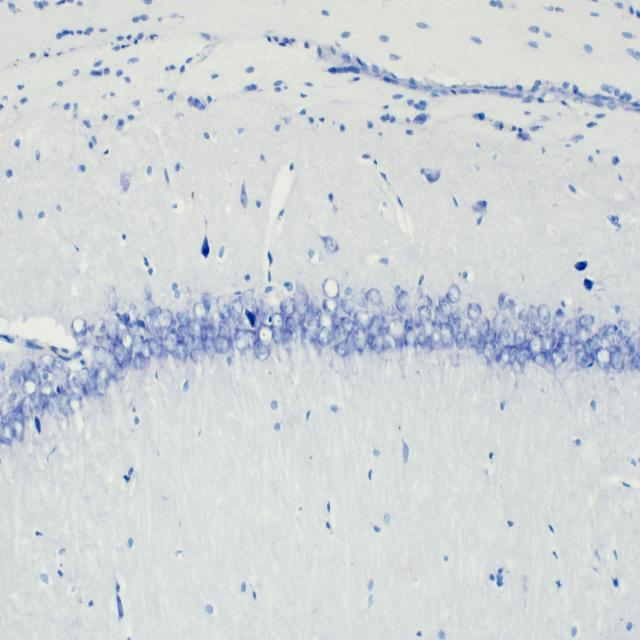neuron: (145, 314, 163, 339), (440, 322, 455, 349), (257, 322, 273, 347), (322, 277, 340, 299), (388, 318, 405, 341), (86, 378, 101, 404), (464, 325, 480, 349), (353, 328, 368, 353), (354, 310, 371, 332), (617, 335, 634, 357), (29, 395, 45, 418), (66, 391, 82, 414), (366, 321, 382, 344), (48, 391, 61, 419), (414, 322, 428, 348), (596, 346, 611, 370), (234, 329, 250, 351), (253, 339, 269, 361), (218, 319, 233, 342), (71, 316, 88, 336), (494, 312, 511, 332), (37, 380, 53, 401), (165, 330, 179, 354), (190, 342, 206, 363), (403, 326, 418, 348), (437, 295, 452, 317), (364, 288, 382, 306), (12, 419, 26, 442), (261, 303, 275, 326), (611, 347, 625, 370), (318, 312, 334, 332), (322, 297, 338, 317), (75, 367, 90, 388), (93, 345, 108, 366), (148, 338, 163, 359), (193, 302, 208, 323), (447, 312, 462, 333), (105, 349, 117, 375), (203, 334, 216, 358), (20, 396, 34, 418), (20, 358, 34, 380), (59, 389, 70, 417), (97, 368, 108, 396), (112, 343, 126, 365), (120, 330, 134, 352), (307, 319, 321, 341), (238, 317, 256, 334), (466, 302, 482, 321), (22, 376, 37, 396), (188, 318, 203, 338), (446, 283, 461, 303), (537, 304, 550, 327), (9, 371, 23, 392), (180, 332, 196, 350), (214, 336, 230, 354), (281, 328, 293, 352), (280, 298, 296, 316), (530, 312, 542, 336), (1, 422, 14, 444), (175, 340, 188, 362), (394, 292, 407, 314), (513, 327, 526, 349), (417, 305, 432, 324), (528, 335, 543, 354), (67, 370, 81, 390), (496, 348, 510, 368), (29, 367, 42, 388), (39, 354, 56, 370), (334, 340, 350, 357), (216, 296, 231, 314), (317, 327, 332, 345), (109, 362, 123, 381), (126, 304, 140, 323), (590, 333, 604, 352), (603, 324, 617, 343), (231, 298, 243, 320), (334, 322, 346, 344), (552, 348, 564, 370), (552, 310, 564, 332), (433, 306, 446, 326), (482, 341, 495, 361), (556, 341, 569, 361), (565, 317, 578, 337), (383, 334, 398, 351), (497, 330, 512, 347), (140, 339, 152, 360), (176, 308, 190, 326), (271, 312, 285, 330), (307, 247, 321, 265), (370, 335, 384, 353), (404, 306, 418, 324), (108, 286, 118, 311), (12, 404, 25, 423), (244, 330, 257, 349), (429, 330, 442, 349), (0, 400, 12, 420), (300, 328, 312, 348), (516, 346, 528, 366), (324, 236, 338, 253), (342, 298, 356, 315), (578, 314, 595, 328), (617, 316, 631, 333), (477, 315, 490, 333), (574, 348, 587, 366), (630, 352, 640, 375), (340, 317, 355, 332), (305, 303, 319, 319), (378, 311, 391, 328), (296, 298, 308, 316), (409, 287, 424, 301), (498, 291, 512, 306), (581, 354, 596, 368), (108, 321, 119, 340), (355, 290, 368, 306), (533, 351, 546, 367), (134, 352, 144, 372), (164, 309, 174, 329), (272, 326, 282, 346), (201, 292, 212, 310), (243, 288, 254, 306), (455, 331, 466, 349), (508, 344, 519, 362), (558, 333, 573, 346), (544, 334, 556, 350), (476, 333, 485, 354), (483, 329, 497, 342), (286, 316, 296, 334), (400, 289, 410, 307), (578, 326, 590, 341), (584, 338, 594, 356), (493, 341, 502, 360), (518, 310, 528, 327), (295, 281, 306, 296), (386, 303, 397, 317), (418, 296, 432, 307), (134, 334, 143, 351), (160, 342, 168, 360), (609, 376, 617, 392), (0, 380, 7, 398), (7, 392, 18, 403), (344, 286, 352, 297)
